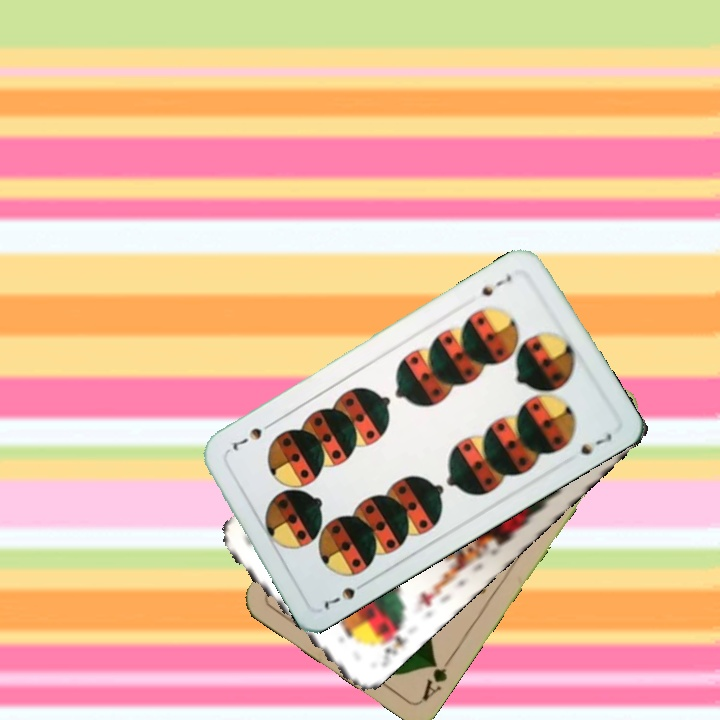GA: (418, 650, 457, 703)
S7: (320, 577, 371, 614), (477, 270, 514, 299)
SK: (376, 617, 411, 665)
